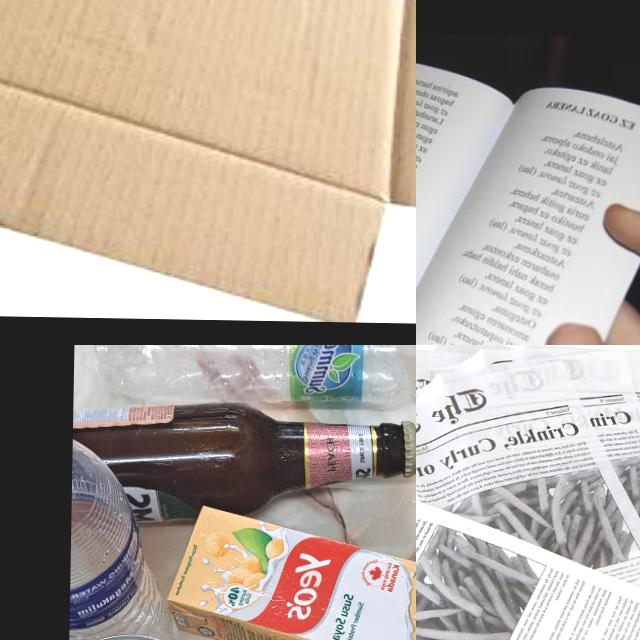caixinha: (164, 505, 416, 640)
garrafa de vidro: (71, 398, 416, 529)
garrafa plástica: (93, 345, 416, 412), (68, 437, 172, 640)
papel: (416, 345, 640, 640), (416, 54, 640, 345)
papelão: (0, 0, 416, 323)
